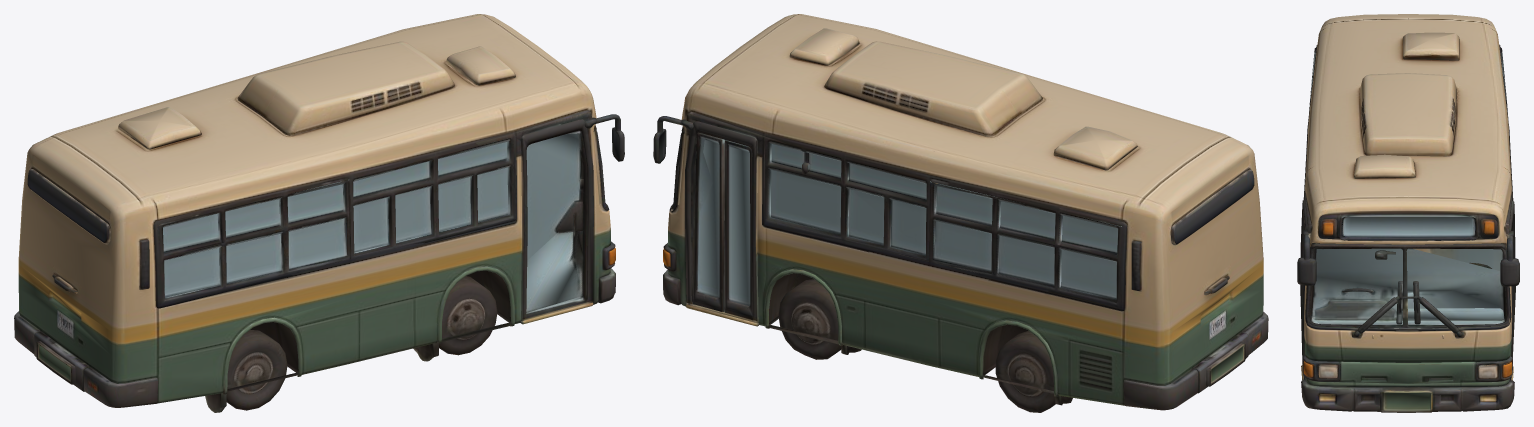
The model's file is town_bus.glb.
3 renders of one model, left to right at view 1: azimuth 30°, elevation 25°; view 2: azimuth 150°, elevation 25°; view 3: azimuth 270°, elevation 25°, orthographic. The views are drawn at different scales.
Visible parts, largest first — view 1: tripo_node_12261f26-d2a7-4ecf-b5a8-36e5a92c2b32; view 2: tripo_node_12261f26-d2a7-4ecf-b5a8-36e5a92c2b32; view 3: tripo_node_12261f26-d2a7-4ecf-b5a8-36e5a92c2b32.
Boxes of the visible parts, left/top/right/bottom form: tripo_node_12261f26-d2a7-4ecf-b5a8-36e5a92c2b32: left=14, top=14, right=624, bottom=412; tripo_node_12261f26-d2a7-4ecf-b5a8-36e5a92c2b32: left=653, top=14, right=1268, bottom=412; tripo_node_12261f26-d2a7-4ecf-b5a8-36e5a92c2b32: left=1297, top=14, right=1519, bottom=412.
Bounding box in the file's own units: 0.9995 × 0.4937 × 0.4155.
Materials: 1 (1 with a texture image).
